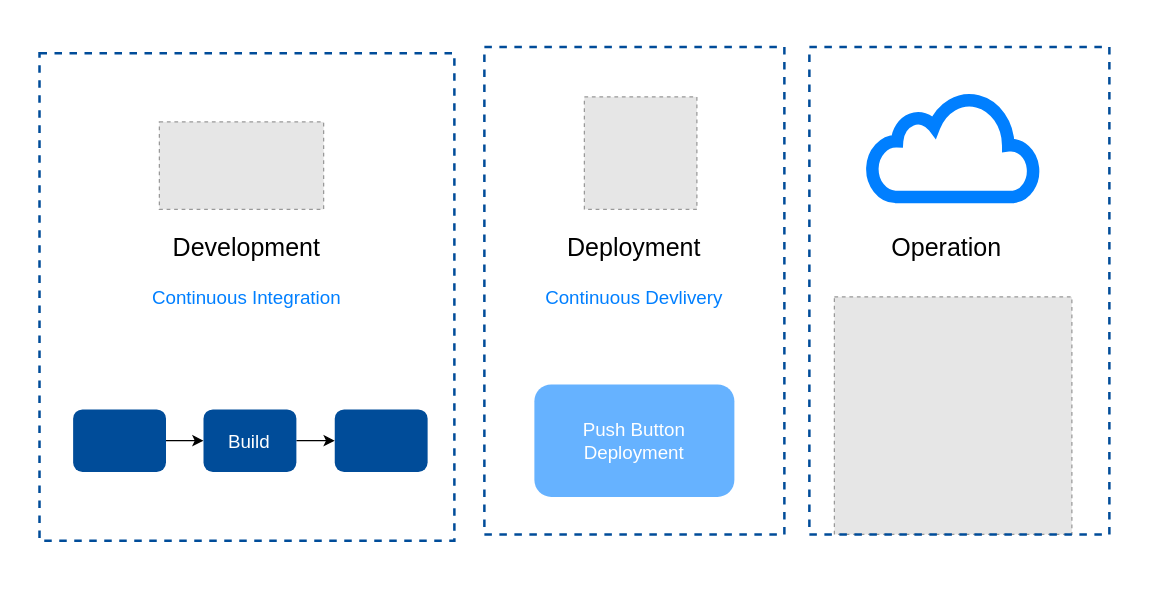
Image size: 1155x593. Some labels were removed from this diagram. Grey dashed boxes stand in for pictures. The shapes that lost their labels are listed below. From the top down, each one's box as (x1, y1, x2, y2) in pixels, then its label:
(72, 409, 165, 471): Commit
(334, 409, 427, 471): Test
